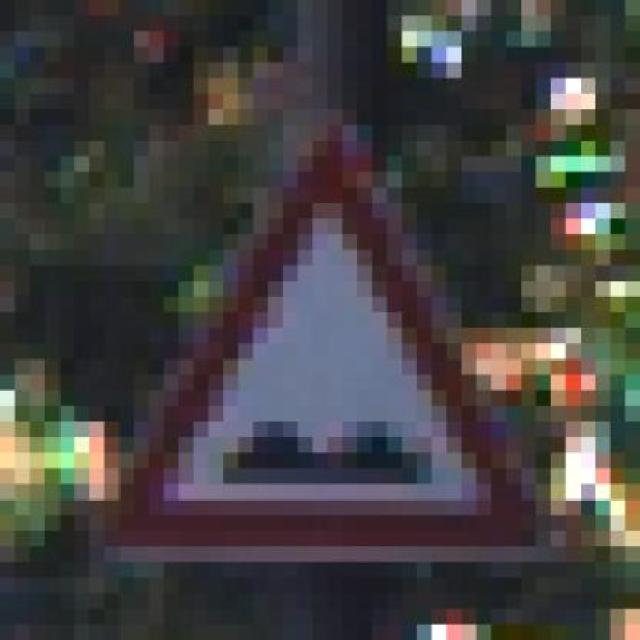Uneven Road: (104, 108, 550, 578)
